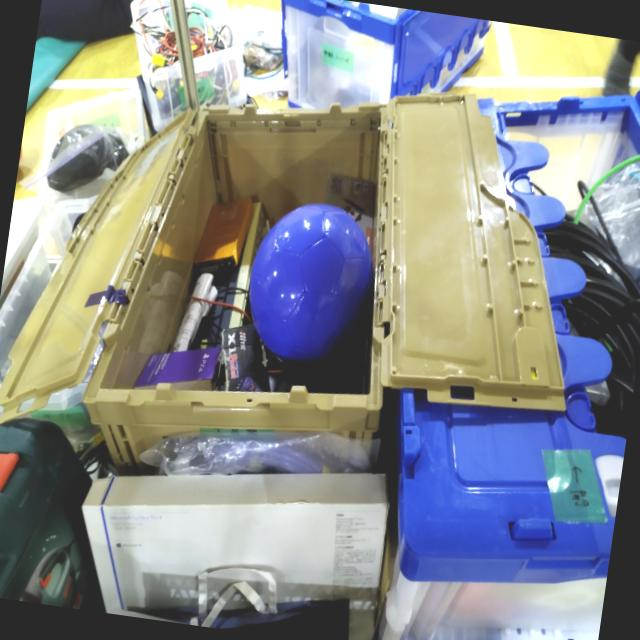blue_ball: (238, 196, 386, 383)
